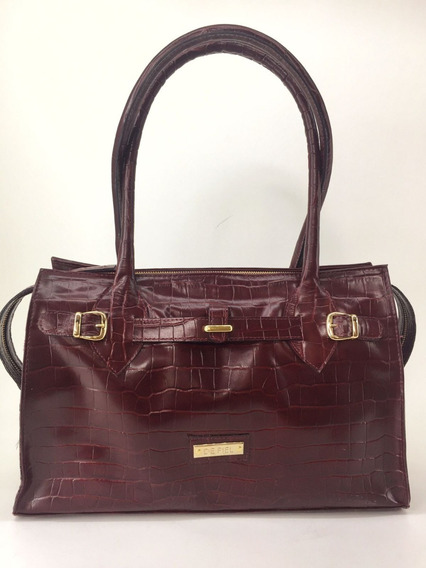cartera: (8, 21, 411, 518)
